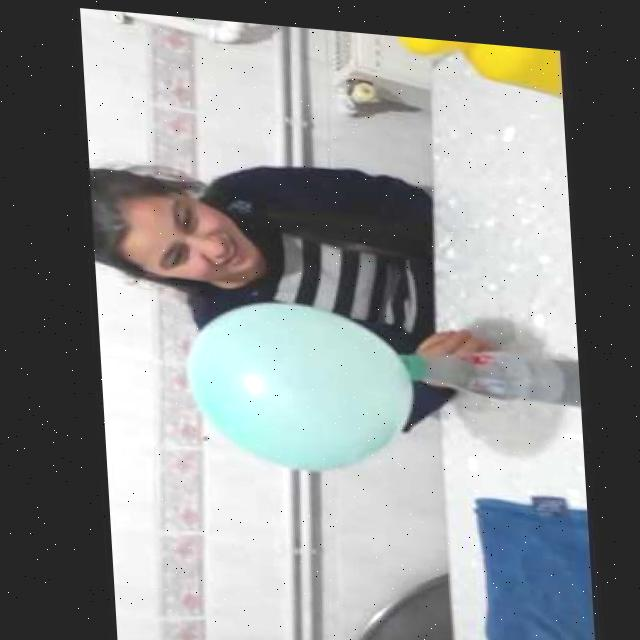balloon: (179, 289, 415, 476)
